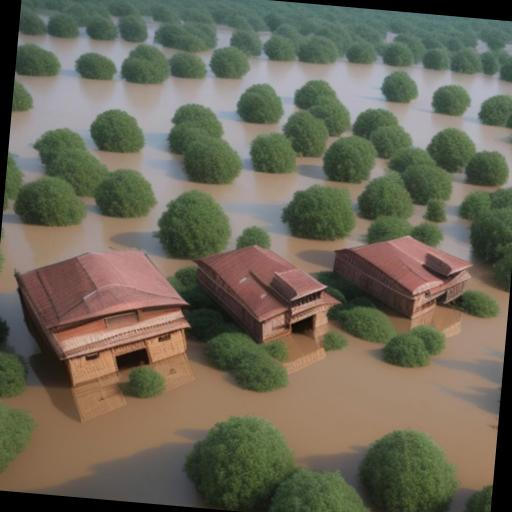flood: (0, 34, 512, 512), (440, 173, 495, 261), (196, 25, 235, 72), (142, 15, 176, 58), (476, 39, 491, 53), (258, 31, 271, 45), (78, 26, 90, 38), (39, 11, 51, 22), (386, 32, 398, 42), (113, 33, 127, 41), (505, 41, 512, 55), (111, 15, 119, 24)
house: (2, 237, 200, 399), (332, 226, 479, 336), (180, 240, 324, 350)
